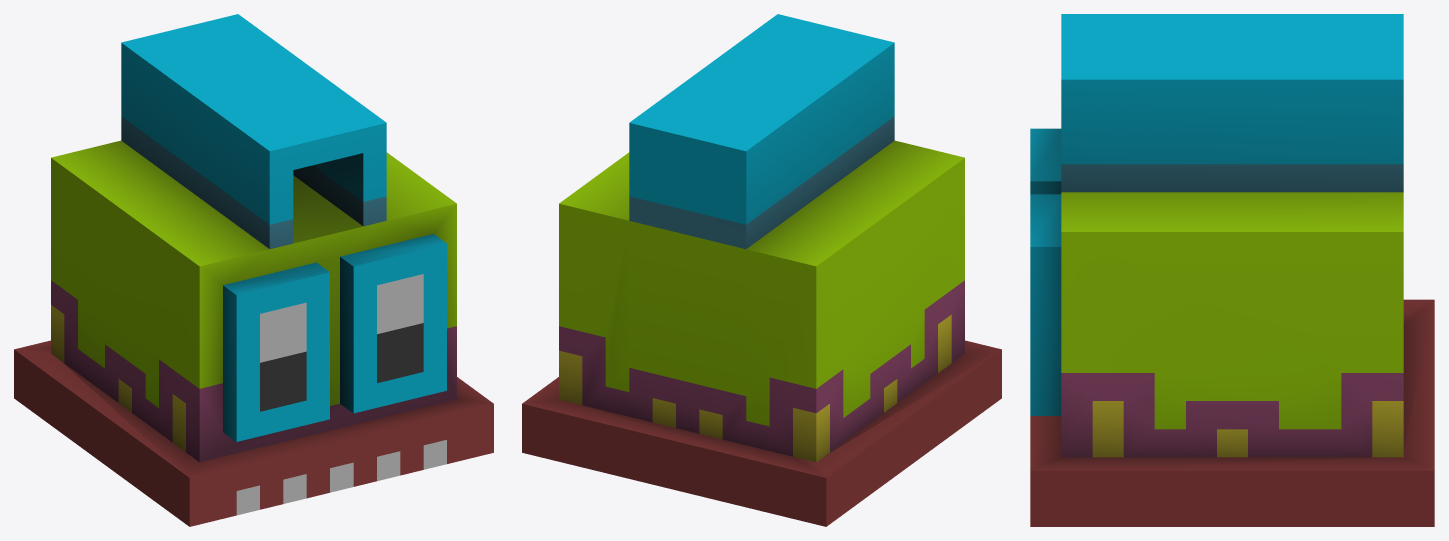
File: Slime.fbx
3 renders of one model, left to right at view 1: azimuth 30°, elevation 25°; view 2: azimuth 150°, elevation 25°; view 3: azimuth 270°, elevation 25°, orthographic. The views are drawn at different scales.
Visible parts, largest first — view 1: Slime; view 2: Slime; view 3: Slime.
Boxes of the visible parts, box(x1,y1,x2,y2) form: Slime: box(14, 14, 493, 526); Slime: box(522, 14, 1001, 526); Slime: box(1030, 14, 1434, 526).
Bounding box in the file's own units: 260 × 280 × 260.
